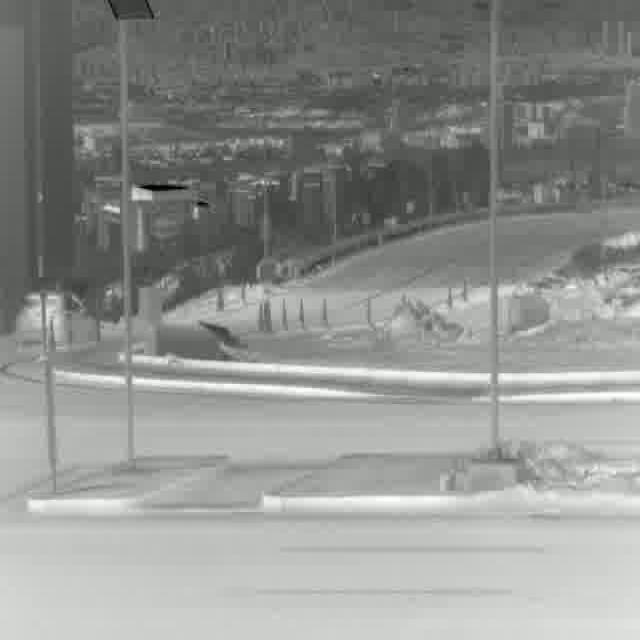Car: (17, 292, 95, 356)
